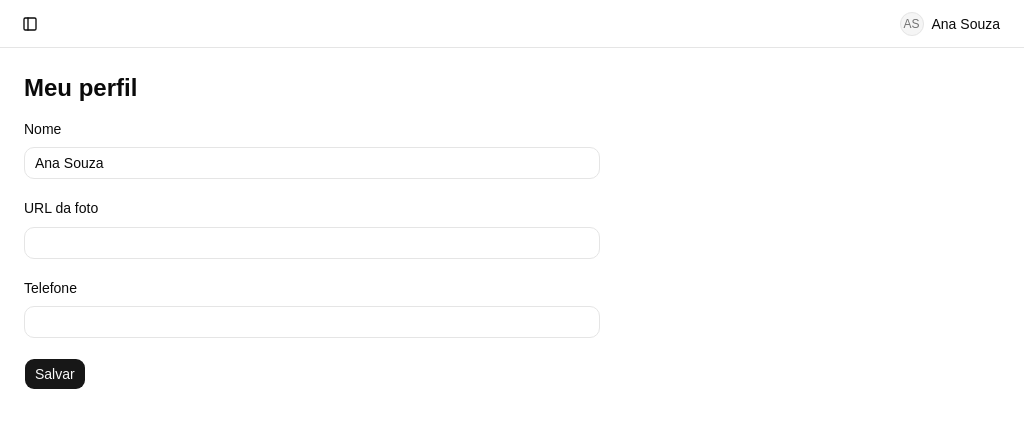
it: Perfil (História 6, FR-005) › URL da foto inválida mostra o erro no campo e não envia
Type "isto não é uma url" into the field labelled "URL da foto" at [312, 242], box [24, 226, 600, 258]
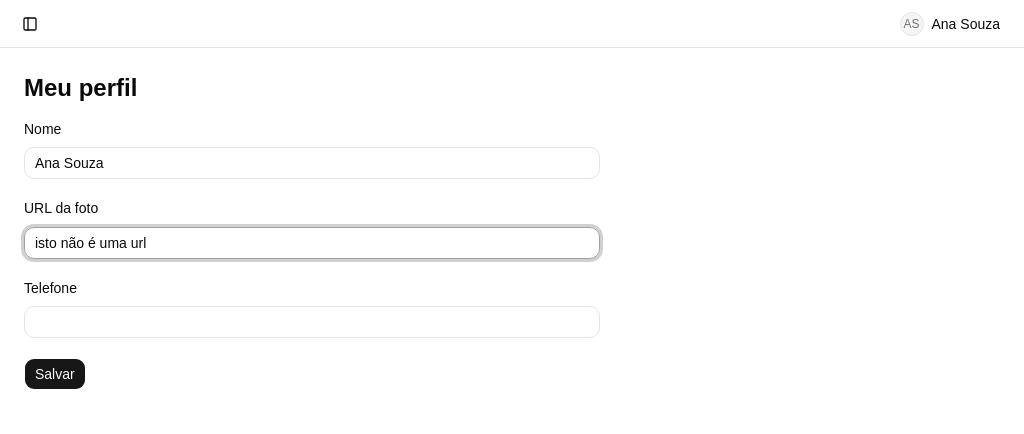
Click the button "Salvar" at [55, 374], box [24, 358, 86, 390]
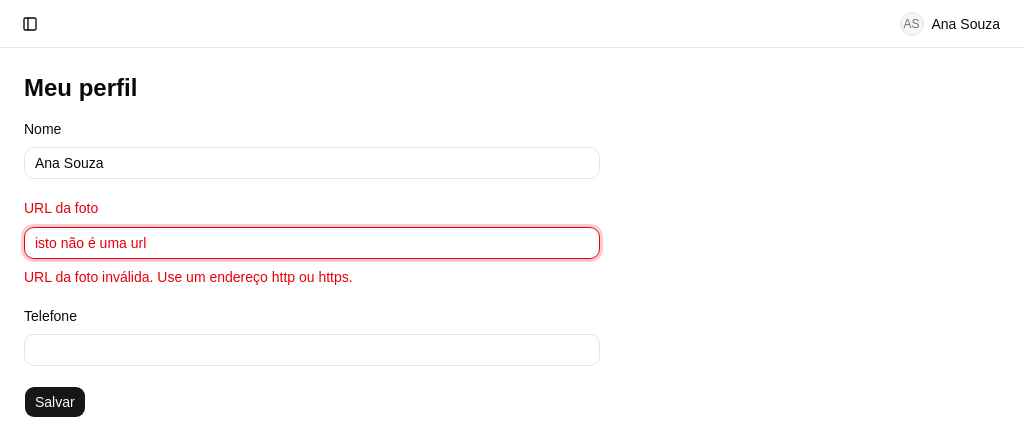
Check: the text "URL da foto inválida. Use um endereço http ou https." is shown, box [24, 268, 353, 284]
